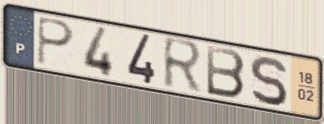4: (80, 24, 116, 79), (125, 33, 157, 87)
B: (204, 43, 247, 101)
P: (36, 15, 77, 68)
R: (161, 34, 206, 97)
S: (248, 54, 290, 108)
